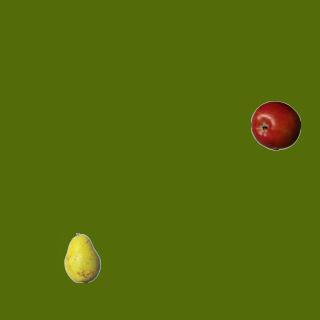Apple Braeburn: (250, 100, 300, 150)
Pear Monster: (57, 232, 107, 282)
